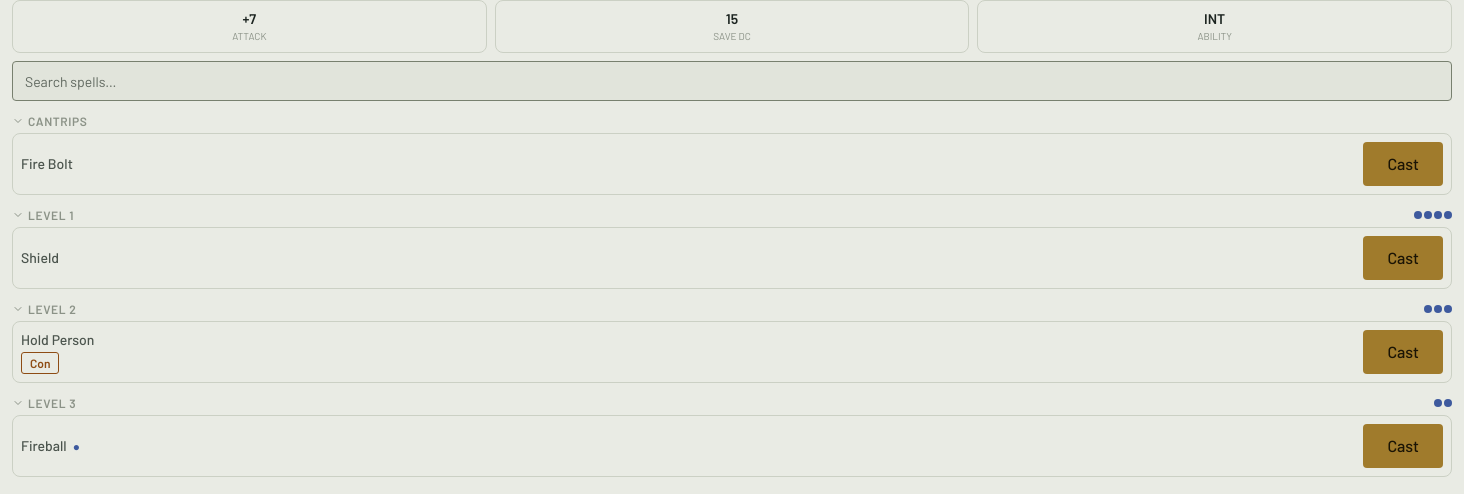
DockSpells › search filters spells by name (case-insensitive)
Type "fire" into the field labelled "Search spells…". click: (732, 81)
box: [12,61,1452,101]
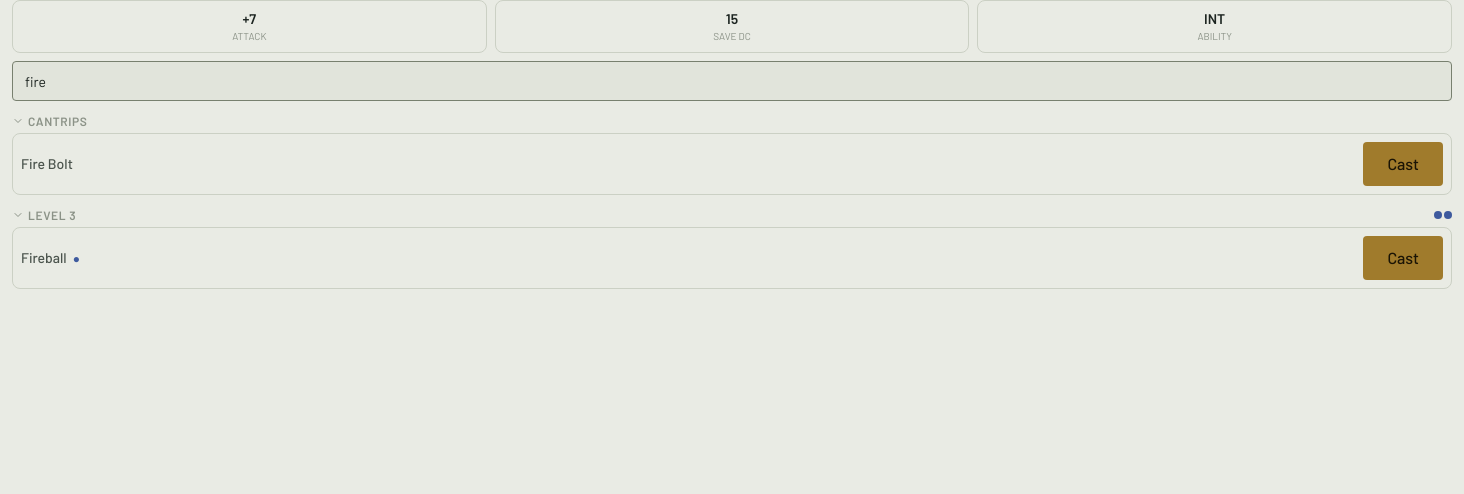
Expected: the text "Fire Bolt" is shown, [21,154,73,174]
Now the button "Shield" is gone
Now the button "Hold Person" is gone
